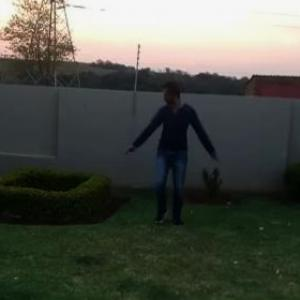land: (117, 77, 244, 257)
